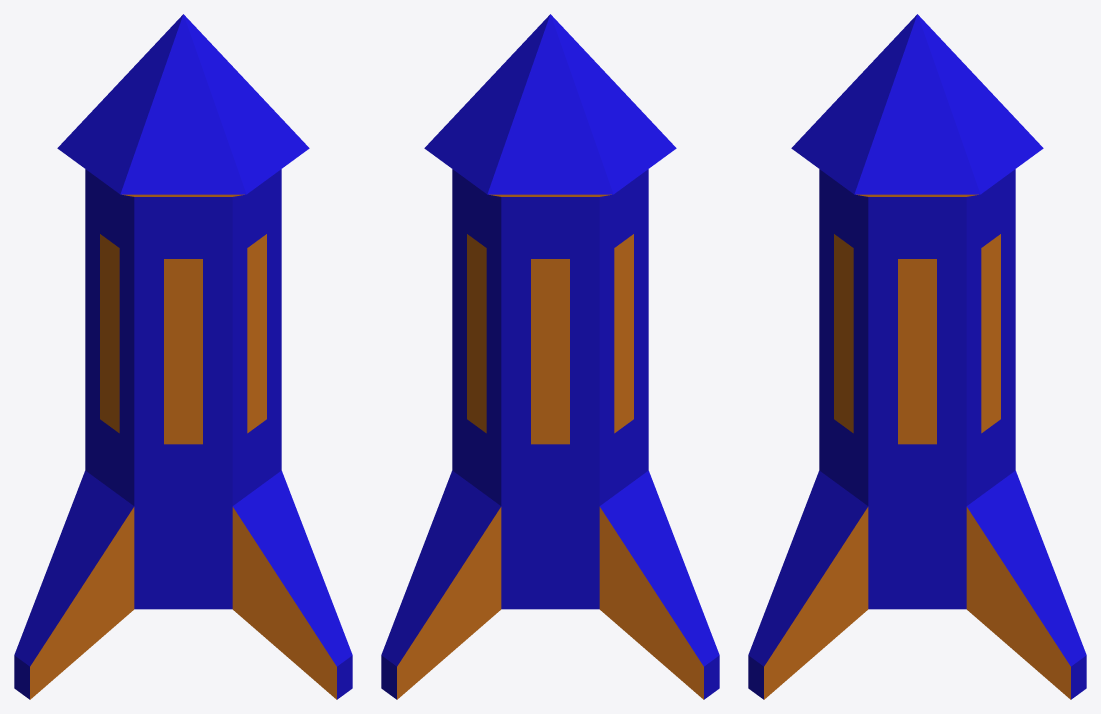
File: Missle.fbx
3 views of the same model, side by side, from view 1: azimuth 30°, elevation 25°; view 2: azimuth 150°, elevation 25°; view 3: azimuth 270°, elevation 25° (orthographic).
Visible parts, largest first — view 1: Cylinder; view 2: Cylinder; view 3: Cylinder.
Boxes of the visible parts, x1=… form: Cylinder: x1=14, y1=14, x2=352, y2=699; Cylinder: x1=381, y1=14, x2=719, y2=699; Cylinder: x1=748, y1=14, x2=1086, y2=699.
Size of the model in its own units: 301 by 720 by 344.
